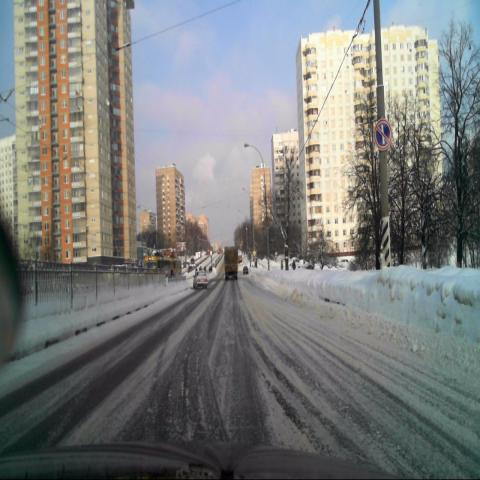3_29: (373, 117, 392, 153)
